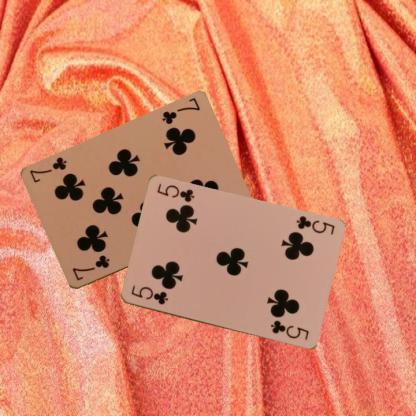5c: (128, 283, 170, 306), (293, 214, 336, 236)
7c: (159, 95, 201, 126), (69, 252, 111, 282)
